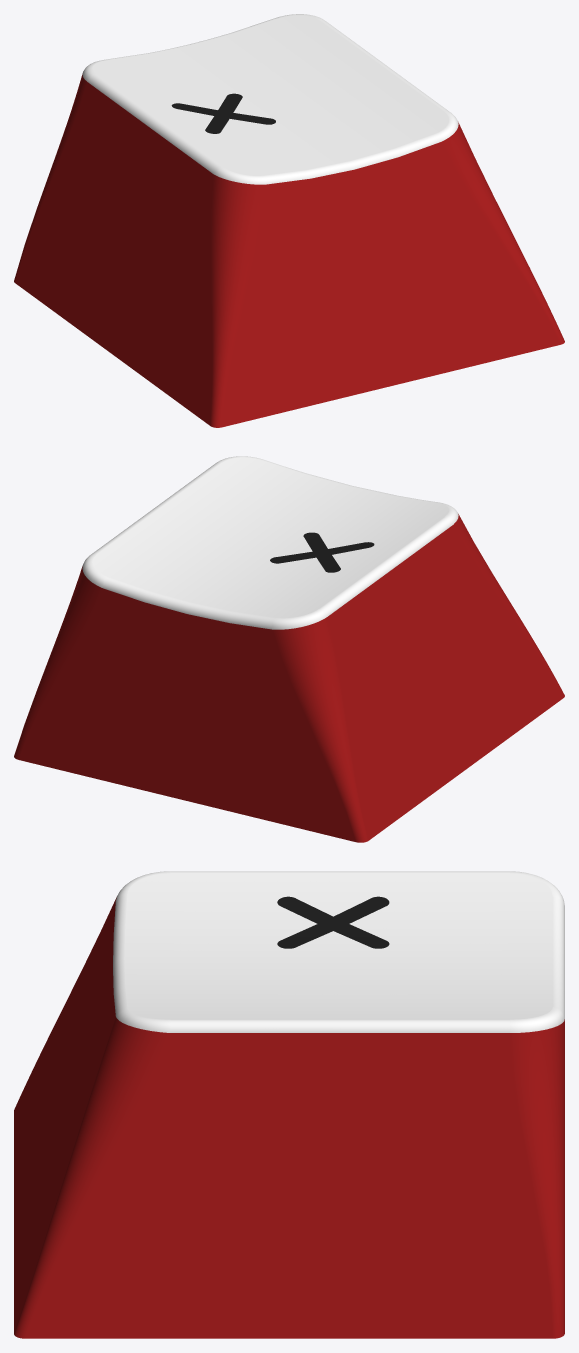
File: NUM Multiply Icon.fbx
The picture shows the model from 3 angles, top to bottom: view 1: azimuth 30°, elevation 25°; view 2: azimuth 150°, elevation 25°; view 3: azimuth 270°, elevation 25°; orthographic projection. The views are drawn at different scales.
Visible parts, largest first — view 1: Body1; view 2: Body1; view 3: Body1.
Boxes of the visible parts, bbox=[...] form: Body1: bbox=[14, 14, 564, 427]; Body1: bbox=[14, 456, 564, 842]; Body1: bbox=[14, 871, 564, 1338].
Size of the model in its own units: 18 by 9.95 by 18.
